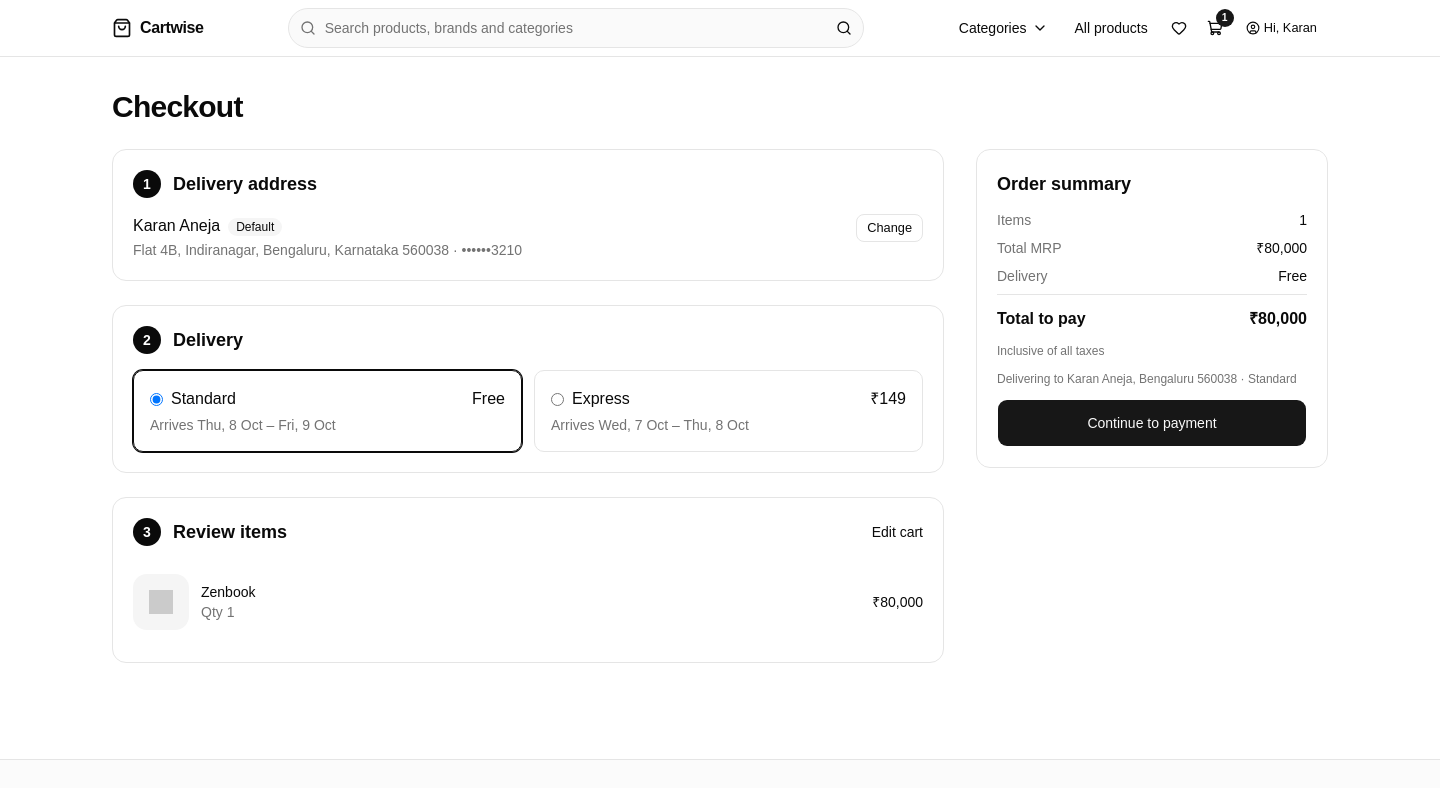
Scenario: checkout page › sends the customer back to the cart when items changed
Click the button "Continue to payment" at [1152, 423], box [997, 399, 1307, 447]
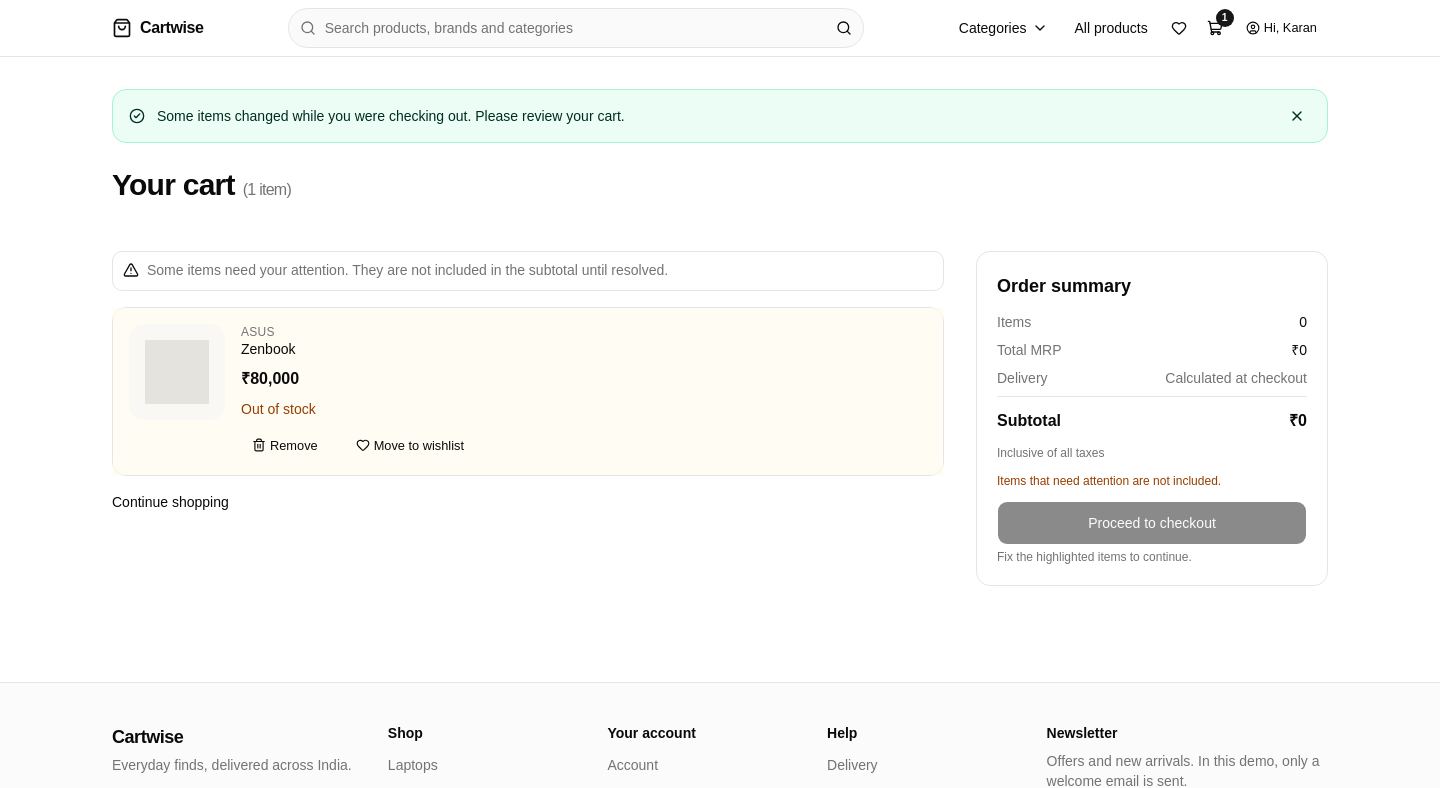
Now the text "Some items changed while you were checking out" is shown, box [157, 108, 625, 124]
